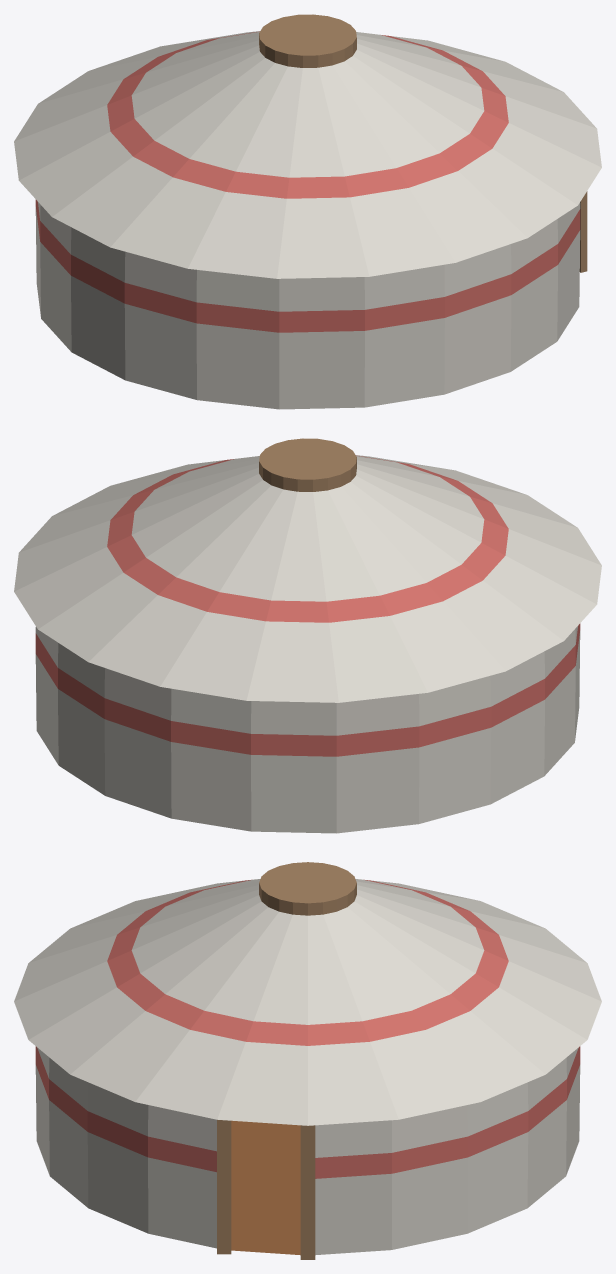
Rendered from yurt_beyaz.glb.
3 views of the same model, one above another, from view 1: azimuth 30°, elevation 25°; view 2: azimuth 150°, elevation 25°; view 3: azimuth 270°, elevation 25° (orthographic).
Parts seen in each view (by area): view 1: yurt_beyaz; view 2: yurt_beyaz; view 3: yurt_beyaz.
Boxes of the visible parts, box(x1,y1,x2,y2) form: yurt_beyaz: box(14, 14, 601, 409); yurt_beyaz: box(14, 438, 601, 833); yurt_beyaz: box(14, 862, 601, 1259).
Bounding box in the file's own units: 6.5 × 3.15 × 6.5.
